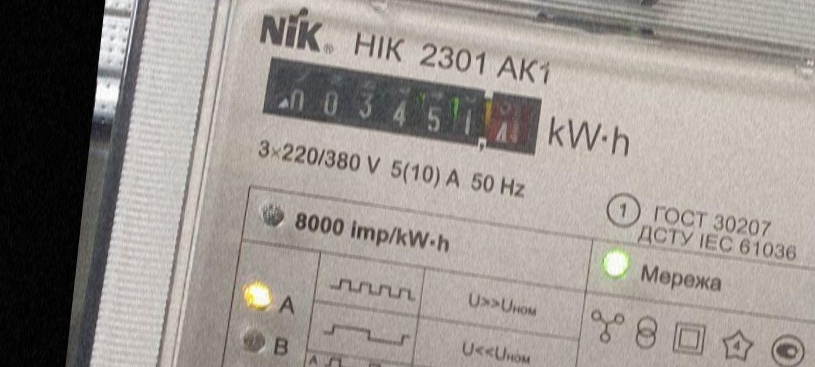0: (283, 84, 306, 113), (318, 87, 340, 117)
1: (457, 104, 476, 137)
3: (353, 88, 375, 121)
4: (386, 96, 410, 130), (488, 117, 511, 147)
5: (422, 102, 442, 134)
screen: (252, 51, 548, 163)
